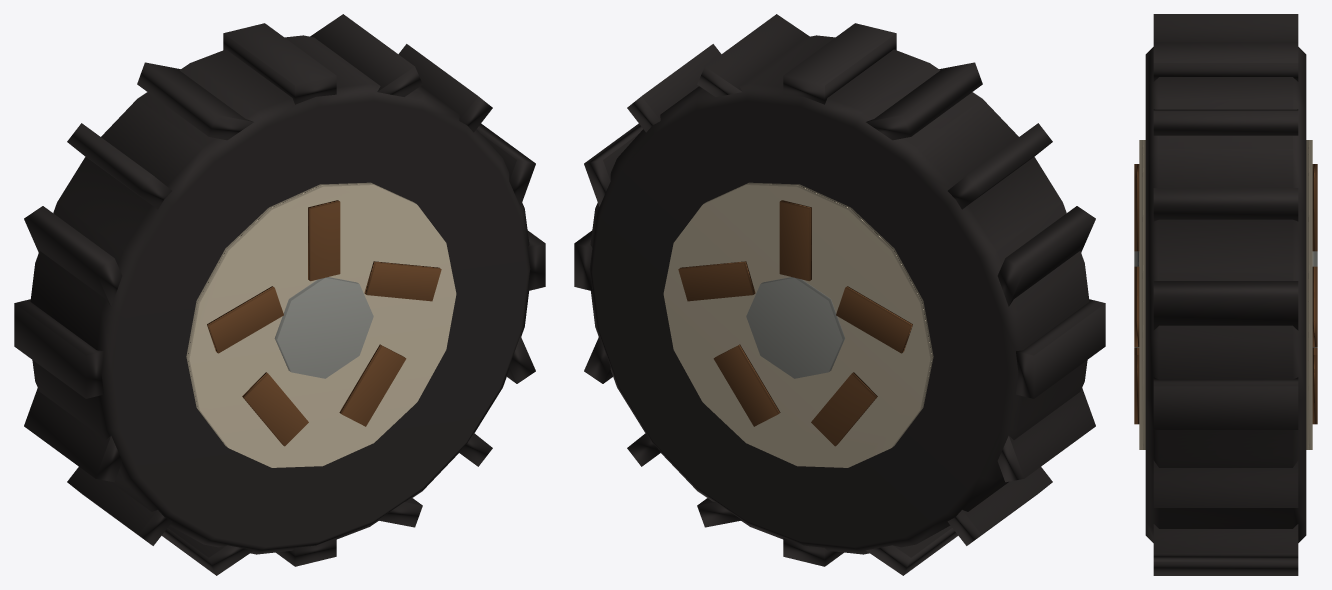
The model's file is wheel_pickup.glb.
The picture shows the model from 3 angles, left to right: view 1: azimuth 30°, elevation 25°; view 2: azimuth 150°, elevation 25°; view 3: azimuth 270°, elevation 25°; orthographic projection.
Parts seen in each view (by area): view 1: wheel_pickup; view 2: wheel_pickup; view 3: wheel_pickup.
Part boxes in pixels (x1=…): wheel_pickup: x1=14, y1=14, x2=545, y2=575; wheel_pickup: x1=574, y1=14, x2=1105, y2=575; wheel_pickup: x1=1134, y1=14, x2=1317, y2=575.
Size of the model in its own units: 0.999 by 0.999 by 0.3424.
